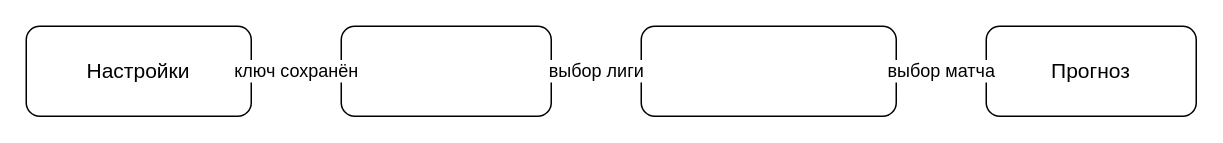
Image size: 1223x143. Some labels were removed from this diagram. The centre of each missing label's shape, as x and y in pixels:
"Календарь дня" goes at [768,70].
"Лиги" goes at [445,70].
